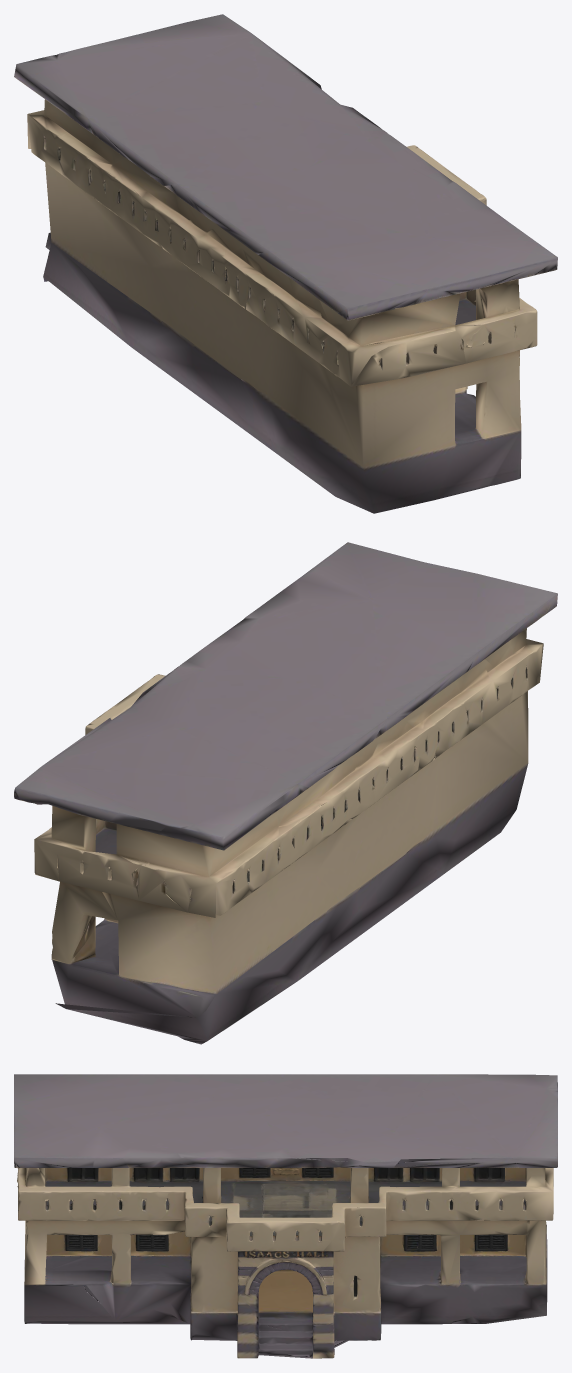
The model's file is IsaacHall.glb.
3 views of the same model, one above another, from view 1: azimuth 30°, elevation 25°; view 2: azimuth 150°, elevation 25°; view 3: azimuth 270°, elevation 25° (orthographic). The views are drawn at different scales.
Visible parts, largest first — view 1: tripo_node_4c85bc0a-fd62-4271-b3ee-a0597f068bbf; view 2: tripo_node_4c85bc0a-fd62-4271-b3ee-a0597f068bbf; view 3: tripo_node_4c85bc0a-fd62-4271-b3ee-a0597f068bbf.
Part boxes in pixels (x1,y1,x2,y2): tripo_node_4c85bc0a-fd62-4271-b3ee-a0597f068bbf: (14,14,557,513); tripo_node_4c85bc0a-fd62-4271-b3ee-a0597f068bbf: (14,542,557,1044); tripo_node_4c85bc0a-fd62-4271-b3ee-a0597f068bbf: (14,1074,557,1358).
Size of the model in its own units: 0.4576 by 0.3548 by 0.9802.
Materials: 1 (1 with a texture image).
